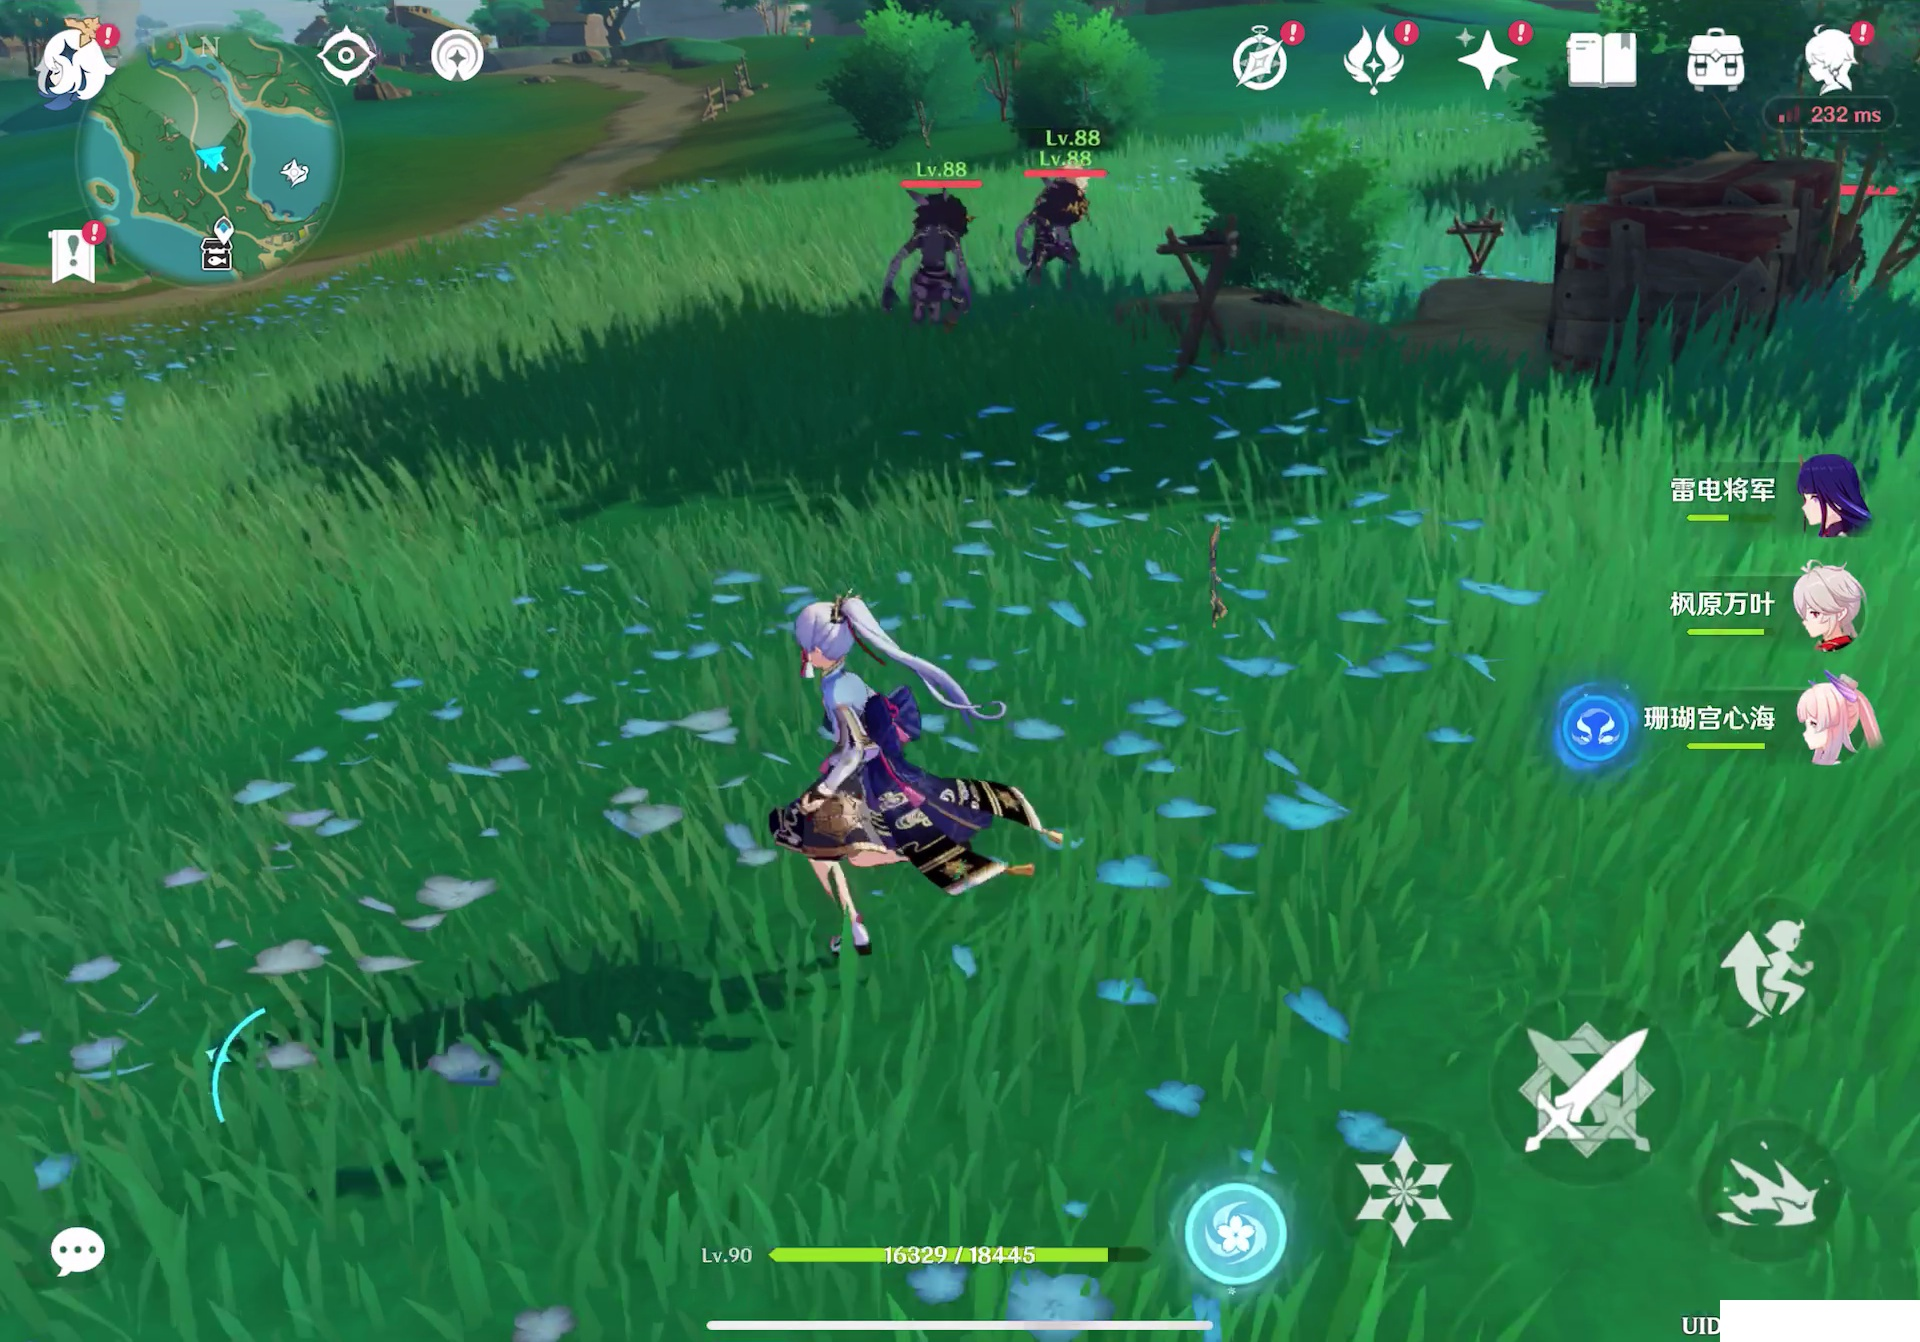丘丘人: (886, 191, 973, 330), (1018, 184, 1099, 290)
神里绫龟: (746, 579, 1085, 958)
